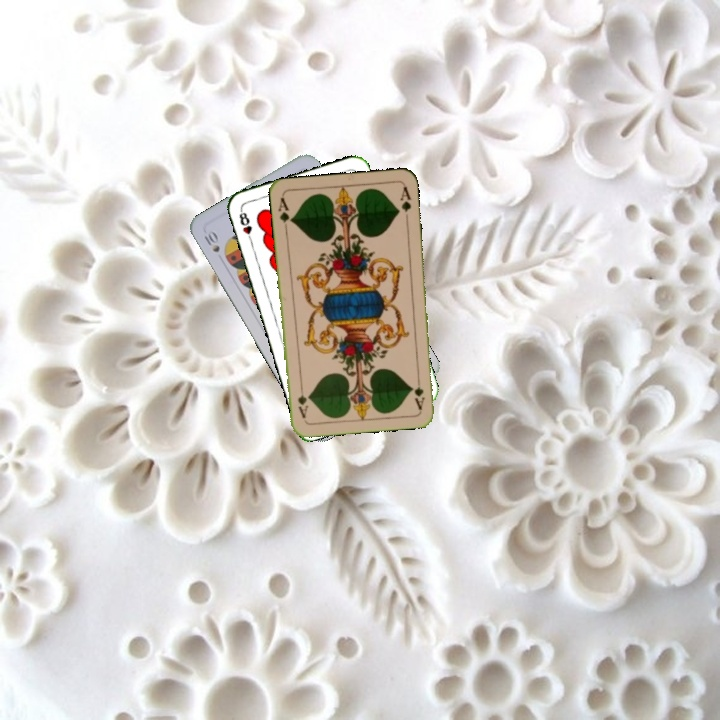GA: (274, 193, 295, 234), (411, 371, 427, 412)
H8: (235, 206, 255, 245)
S10: (200, 228, 222, 255)
